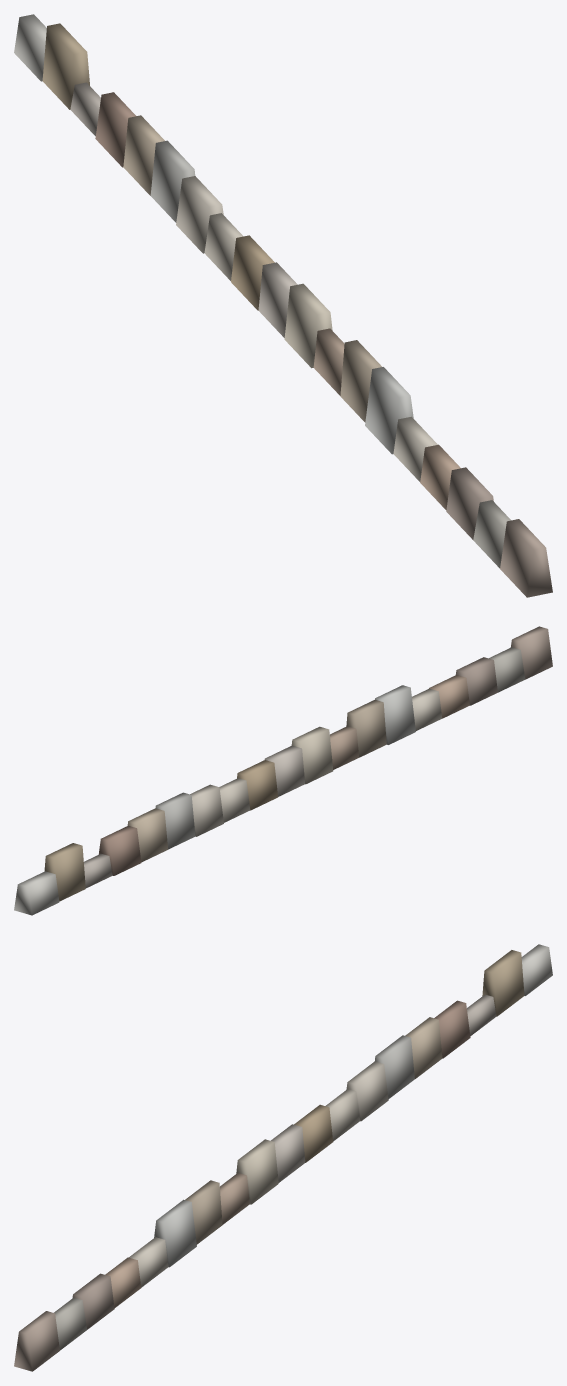
Rendered from farm_-23_-21_collision.glb.
3 renders of one model, top to bottom at view 1: azimuth 30°, elevation 25°; view 2: azimuth 150°, elevation 25°; view 3: azimuth 330°, elevation 25°, orthographic. The views are drawn at different scales.
Visible parts, largest first — view 1: geometry_0; view 2: geometry_0; view 3: geometry_0.
Boxes of the visible parts, bbox=[...] form: geometry_0: bbox=[14, 14, 552, 597]; geometry_0: bbox=[14, 626, 552, 915]; geometry_0: bbox=[14, 944, 552, 1371].
Size of the model in its own units: 2.98 by 4.04 by 30.14.
